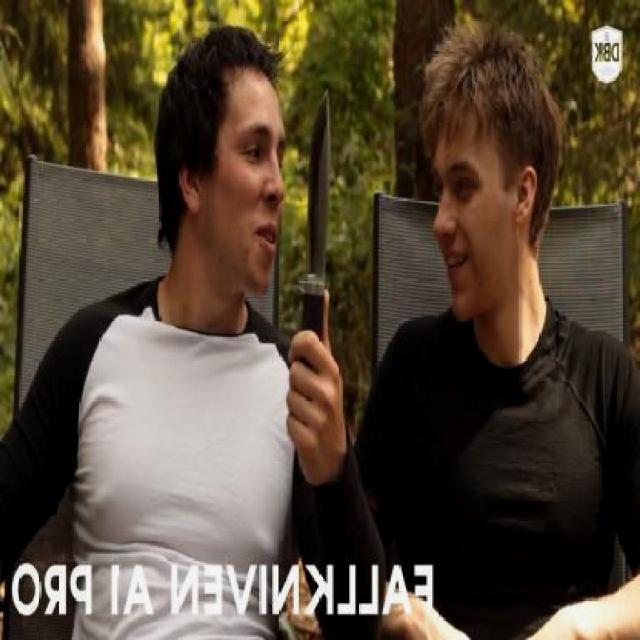knife: (280, 77, 340, 435)
